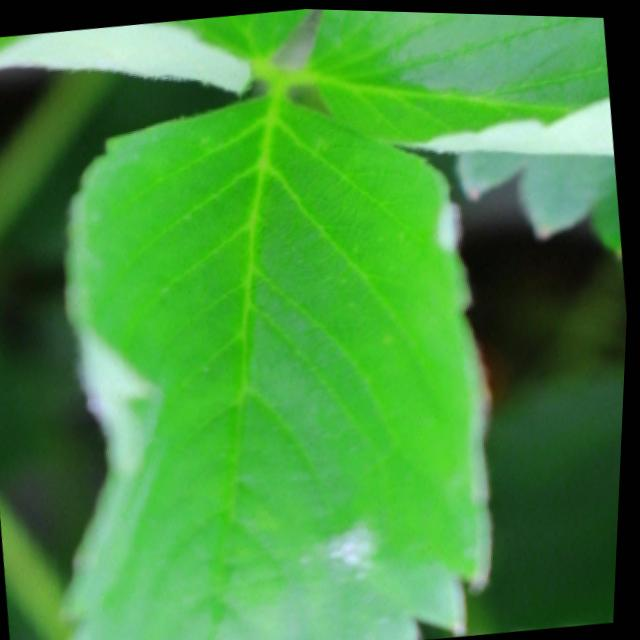Powdery Mildew Leaf: (61, 85, 499, 640), (297, 7, 615, 154), (0, 7, 311, 97)
